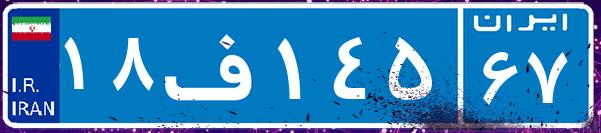1: (273, 28, 330, 110), (57, 26, 110, 107)
4: (330, 28, 385, 110)
5: (385, 28, 445, 110)
6: (475, 38, 525, 113)
7: (525, 38, 570, 115)
8: (110, 28, 158, 105)
ف: (158, 15, 273, 115)
